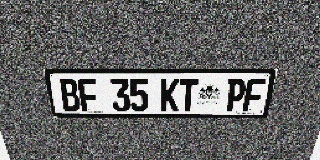3: (110, 79, 131, 111)
5: (129, 79, 148, 111)
B: (58, 79, 81, 111)
F: (242, 78, 266, 111), (77, 79, 99, 111)
K: (161, 78, 179, 111)
P: (224, 78, 247, 111)
T: (179, 78, 198, 111)
